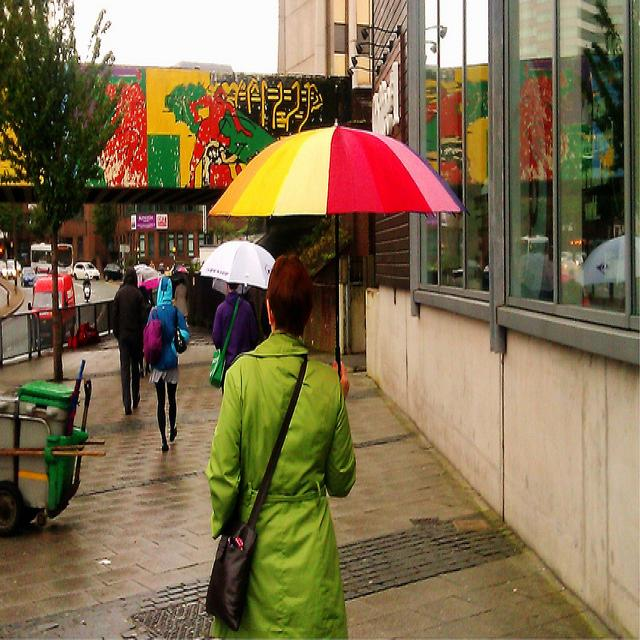motor: (84, 283, 91, 302)
